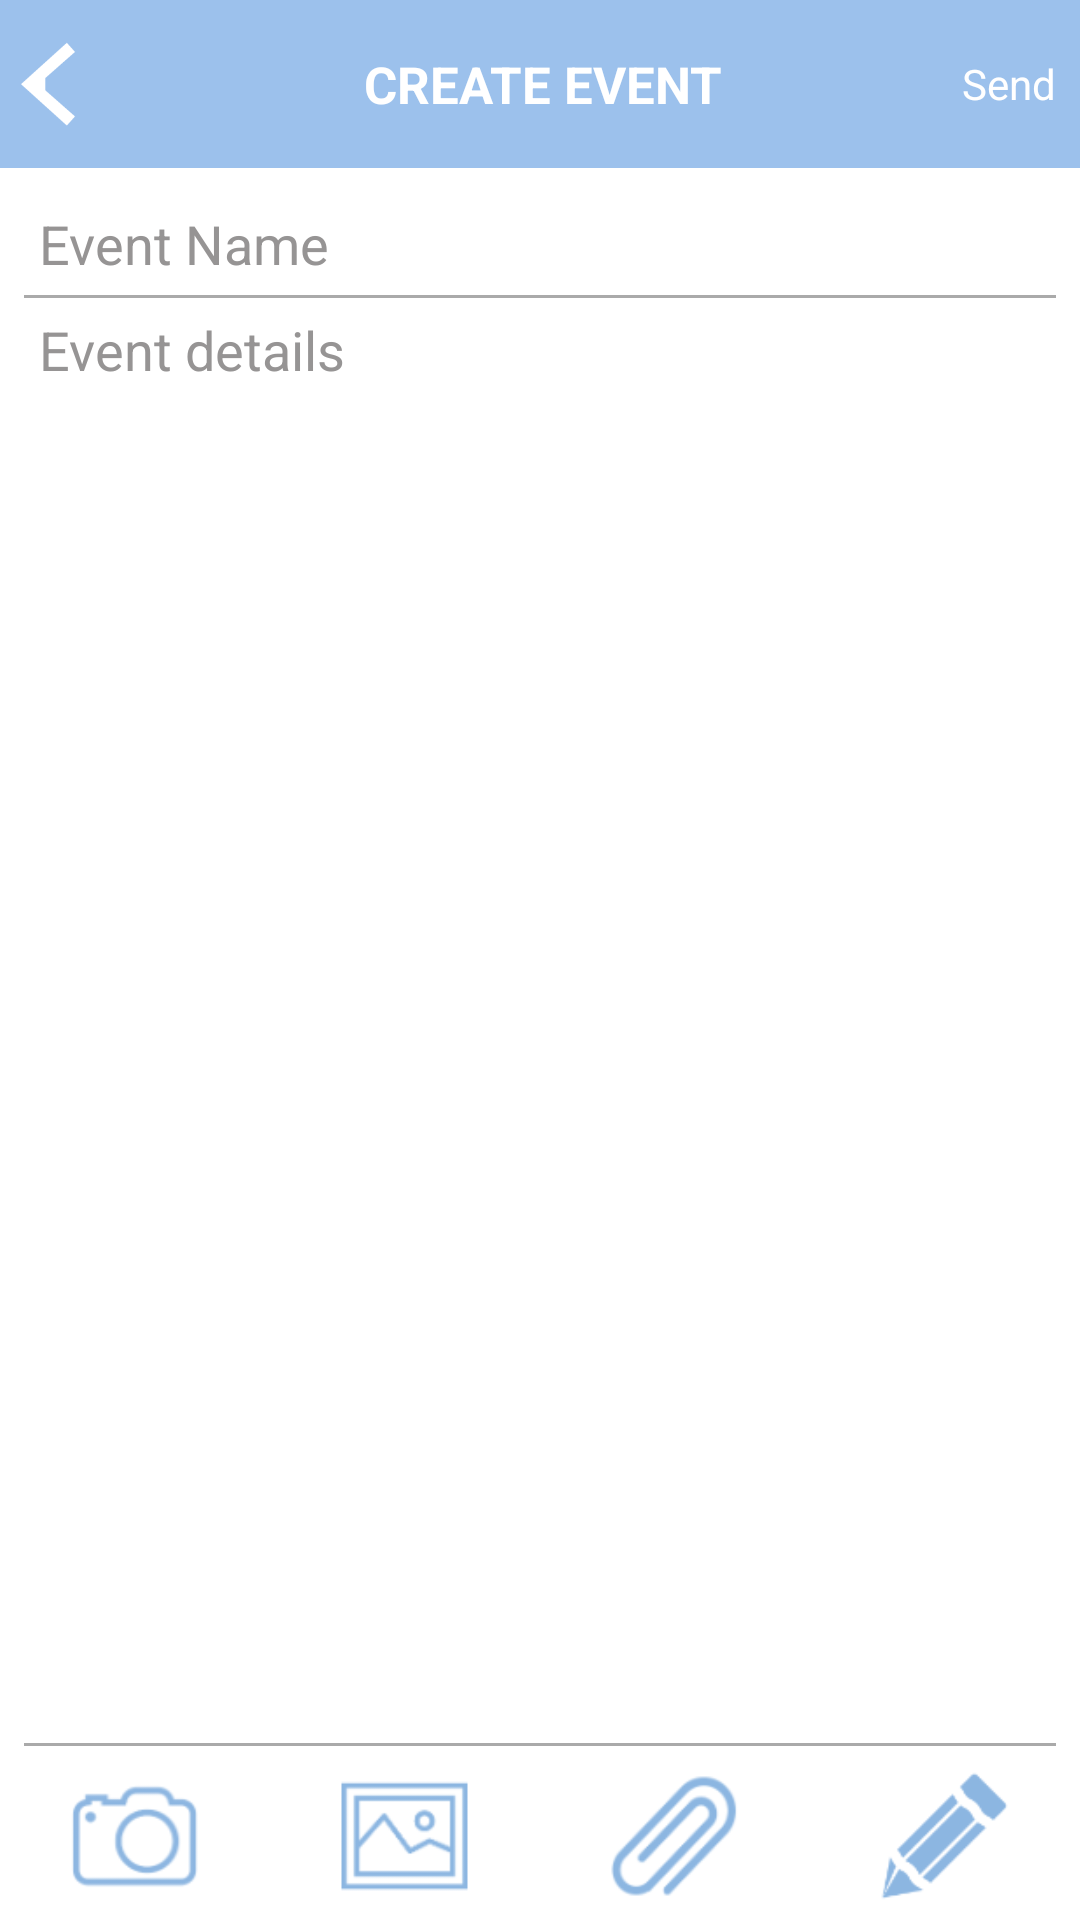

Icon bounding boxes for this 1080 × 1920 phone screenshot, format (x1, y1, x2, y2):
attach file: (611, 1776, 736, 1896)
back: (21, 43, 75, 125)
camera: (73, 1787, 197, 1886)
edit: (882, 1774, 1007, 1898)
